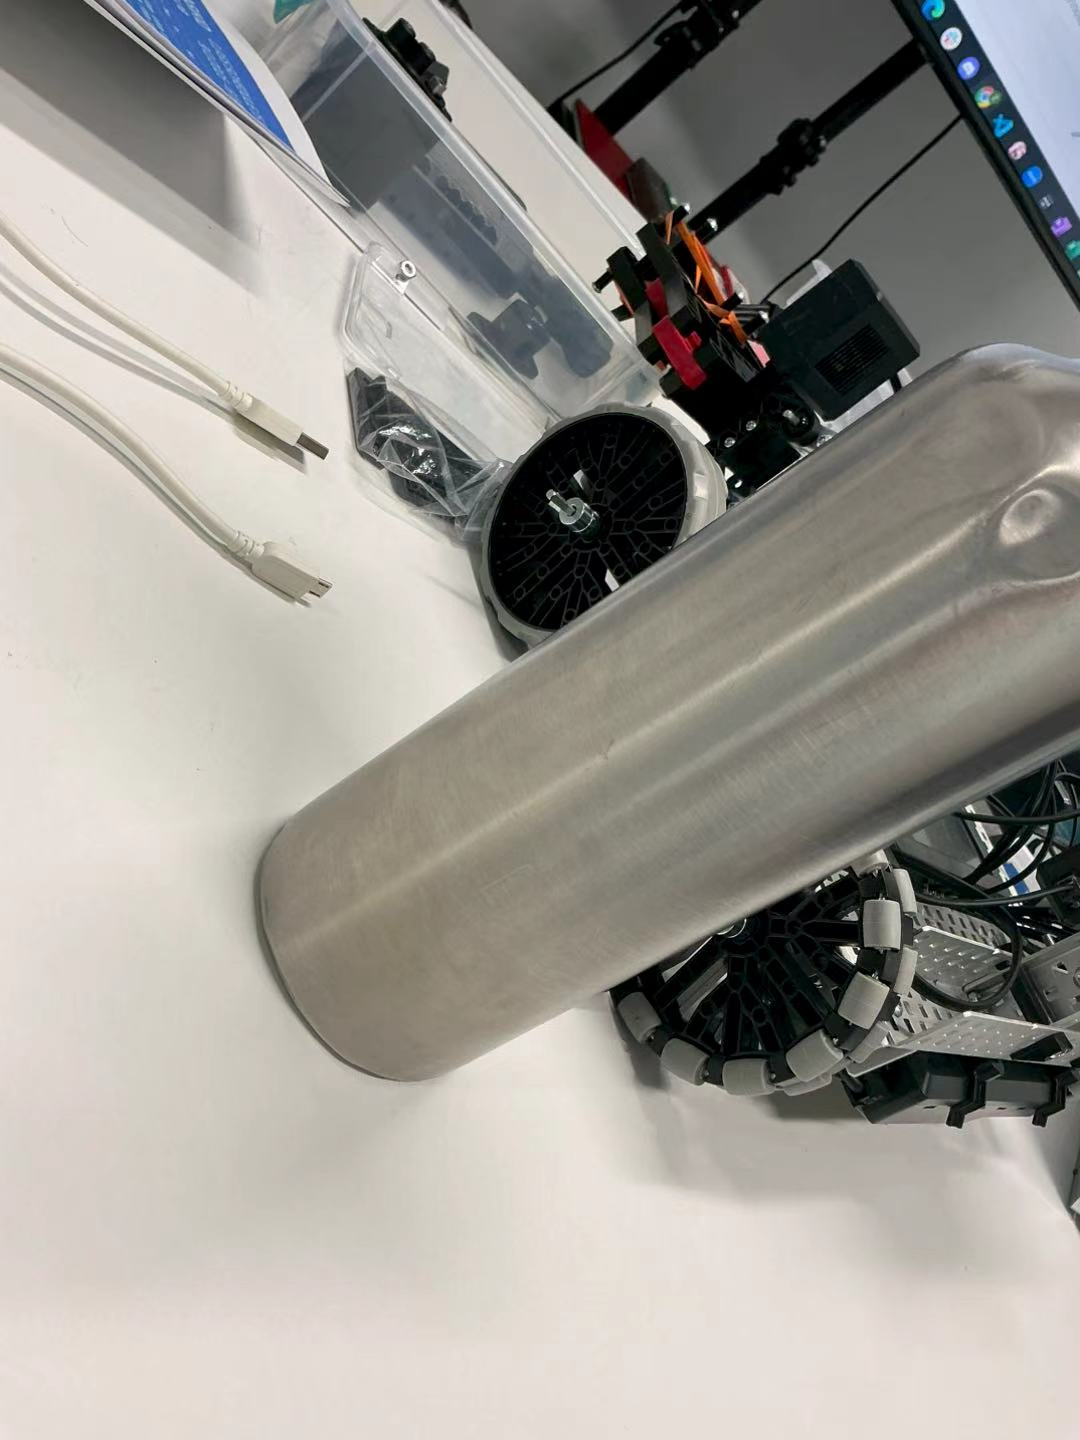Water_Bottle: (238, 308, 1073, 1083)
